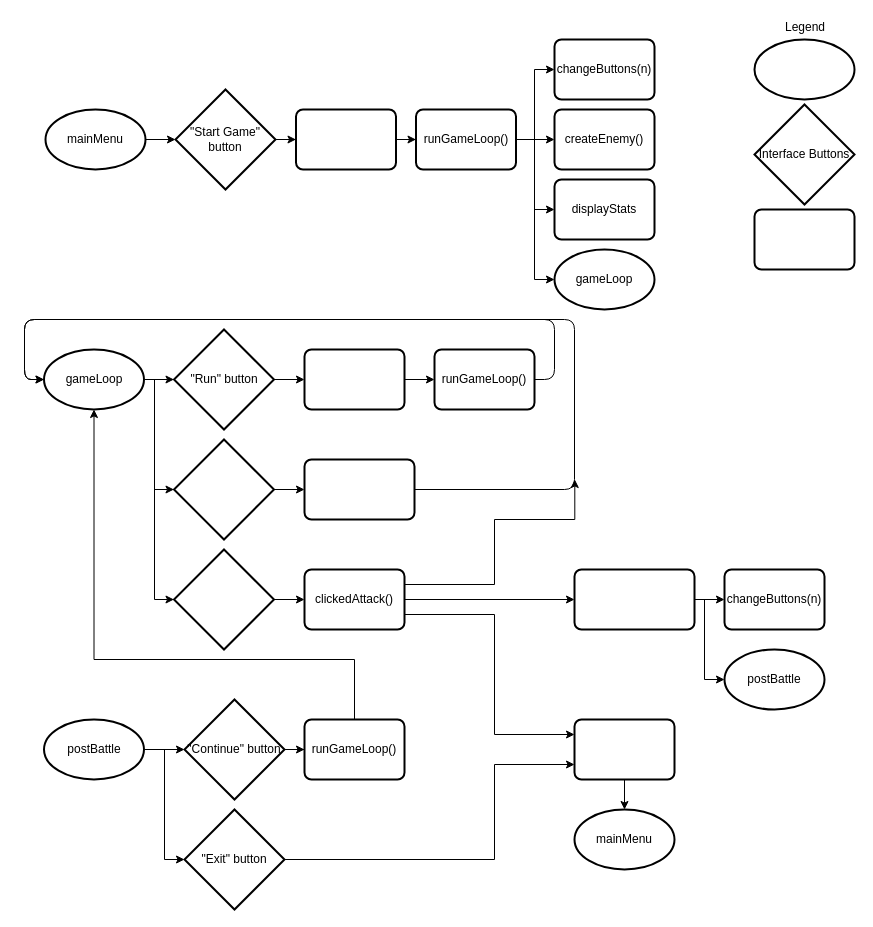
Some shapes in this 873 by 927 pixel diagram are drawn without their labels. Each missing label, with the box of its shape:
"Attack" button: (172, 548, 274, 650)
"Drink" button: (172, 438, 274, 540)
clickedDrinkPotion(): (303, 458, 415, 520)
clickedRun(): (303, 348, 405, 410)
cueGameOver(b): (573, 718, 675, 780)
cuePostBattleScript(): (573, 568, 695, 630)
Function Calls: (753, 208, 855, 270)
Game States: (753, 38, 855, 100)
startGame(): (294, 108, 396, 170)
